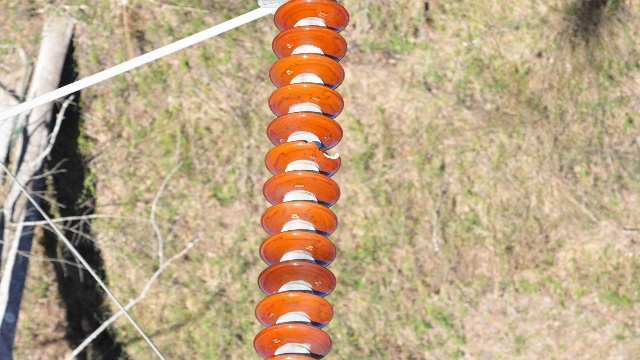broken_local: (300, 139, 344, 160)
insulator_unspecified: (254, 0, 350, 359)
